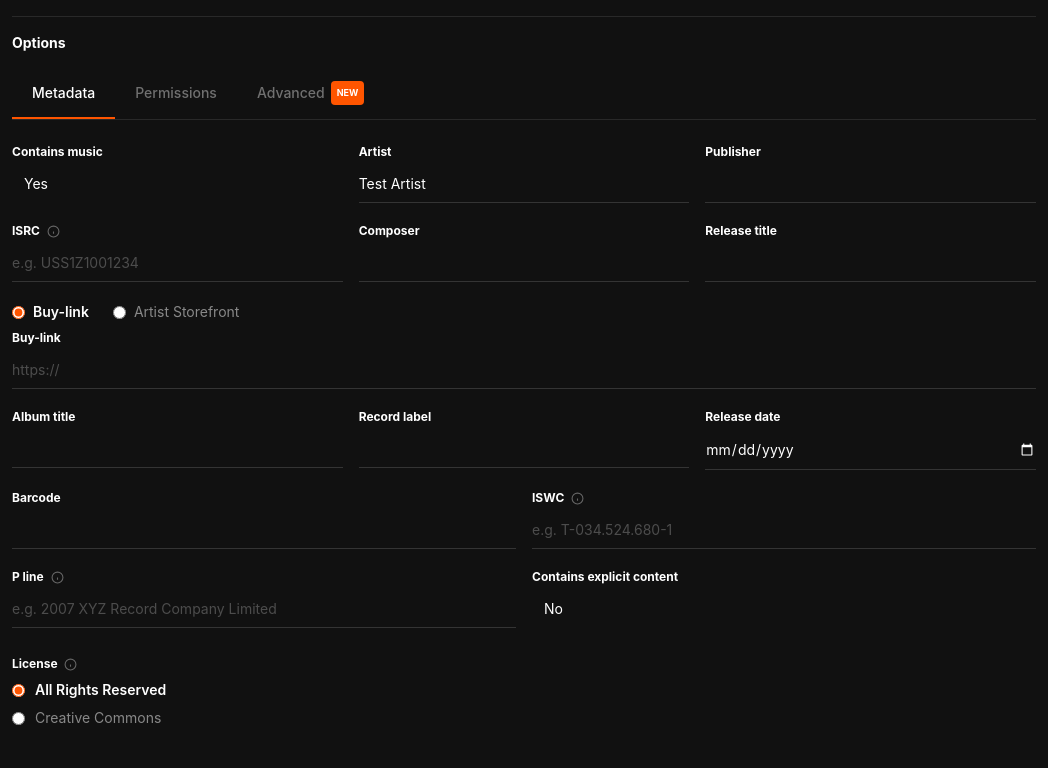
Test case: UploadOptionsPanel › renders excerpt waveform container when audio file is provided
Click the button with test id "options-tab-advanced" at x=311, y=94, box top-left (237, 69), bottom-right (384, 119)
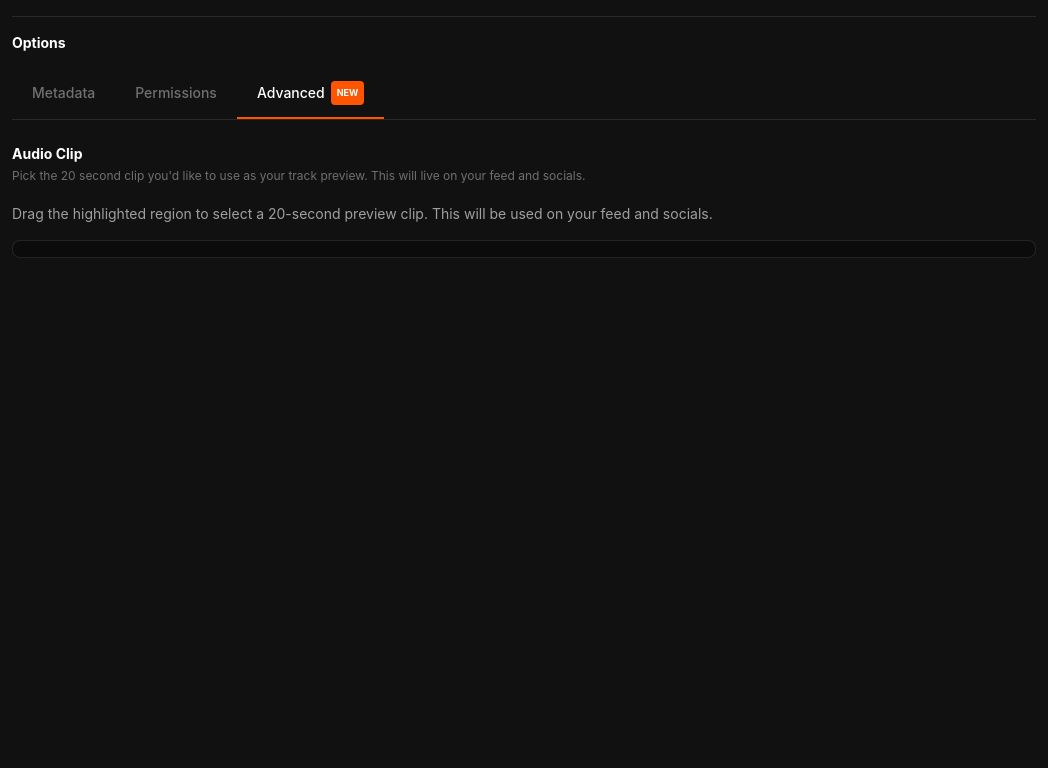
Expected: the element with test id "excerpt-waveform" is shown, top-left (12, 240), bottom-right (1036, 258)
